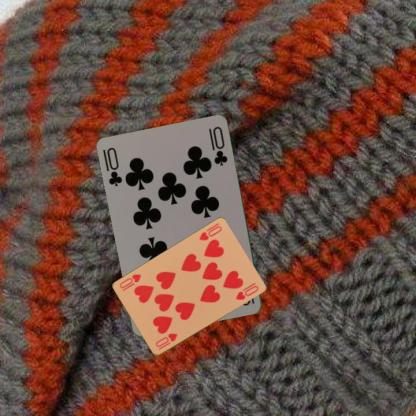10c: (101, 145, 124, 188)
10h: (152, 330, 178, 352), (196, 224, 223, 242)
